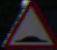Speed Breaker ahead: (13, 4, 49, 41)
